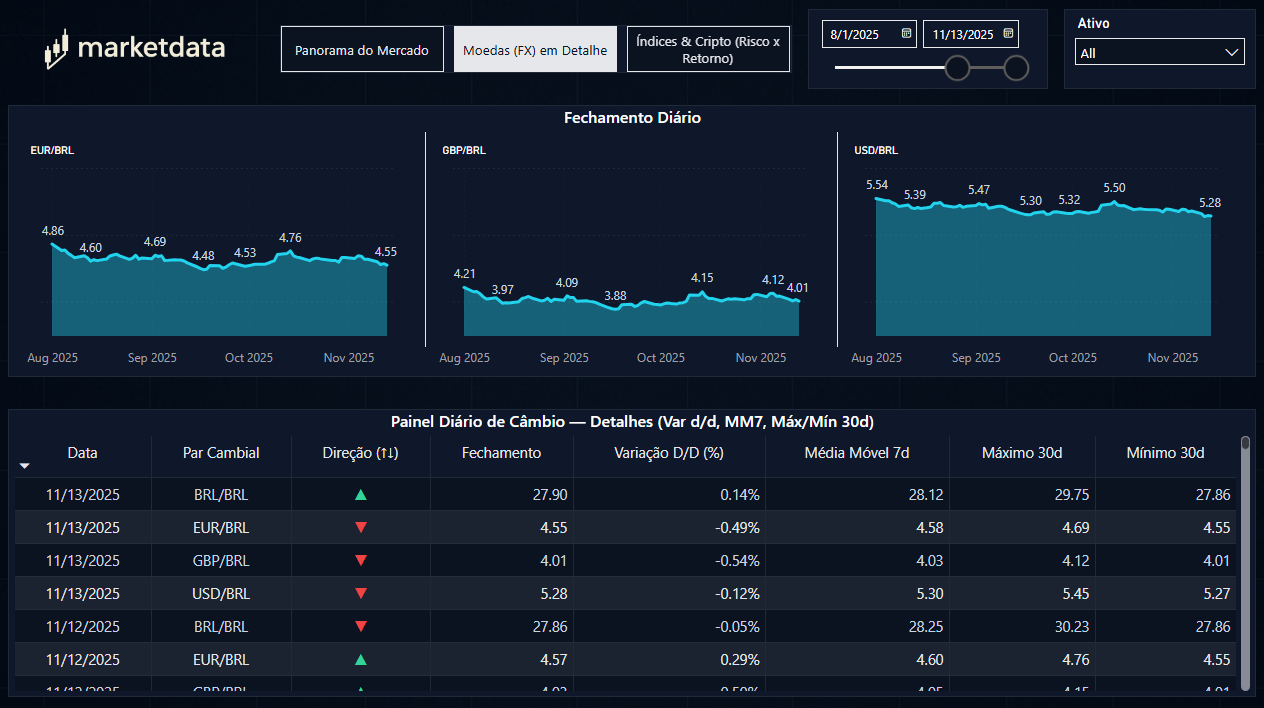

Layout of this report page (visuals, bound fields, positions):
{"tool":"powerbi","page":{"name":"Moedas (FX) em Detalhe","canvas":[1280,720],"ordinal":1},"visuals":[{"type":"slicer","fields":{"Values":["fact_fx_daily.currency_pair"]},"box":[326.2,20.6,280.7,82.4],"z":0},{"type":"slicer","fields":{"Values":["dim_calendario.Data"]},"box":[20.6,20.6,279.6,121.4],"z":1},{"type":"lineChart","fields":{"Category":["dim_calendario.Data"],"Y":["_Medidas.FX Valor"],"Rows":["fact_fx_daily.currency_pair"]},"box":[20.6,130.1,776,278.5],"z":2},{"type":"pivotTable","fields":{"Rows":["fact_fx_daily.currency_pair"],"Columns":["dim_calendario.Ano-Mês"],"Values":["_Medidas.FX Var % Média (Mês)"]},"box":[20.6,419.4,586.4,278.5],"z":3},{"type":"tableEx","fields":{"Values":["dim_calendario.Data","fact_fx_daily.currency_pair","_Medidas.FX Valor","_Medidas.FX Var % d/d","_Medidas.FX MM 7d","_Medidas.FX Máx 30d","_Medidas.FX Mín 30d"]},"box":[640.5,419.4,586.4,278.5],"z":4}]}

Visuals, with their boxes in screenshot pixels (x1, y1, x2, y2), scaled from the page's 1280x720 canvas onto the 1264x708 screenshot:
slicer - fact_fx_daily.currency_pair: l=322, t=20, r=599, b=101
slicer - dim_calendario.Data: l=20, t=20, r=296, b=140
lineChart - dim_calendario.Data x _Medidas.FX Valor: l=20, t=128, r=787, b=402
pivotTable - fact_fx_daily.currency_pair x dim_calendario.Ano-Mês: l=20, t=412, r=599, b=686
tableEx - dim_calendario.Data x fact_fx_daily.currency_pair: l=632, t=412, r=1212, b=686
